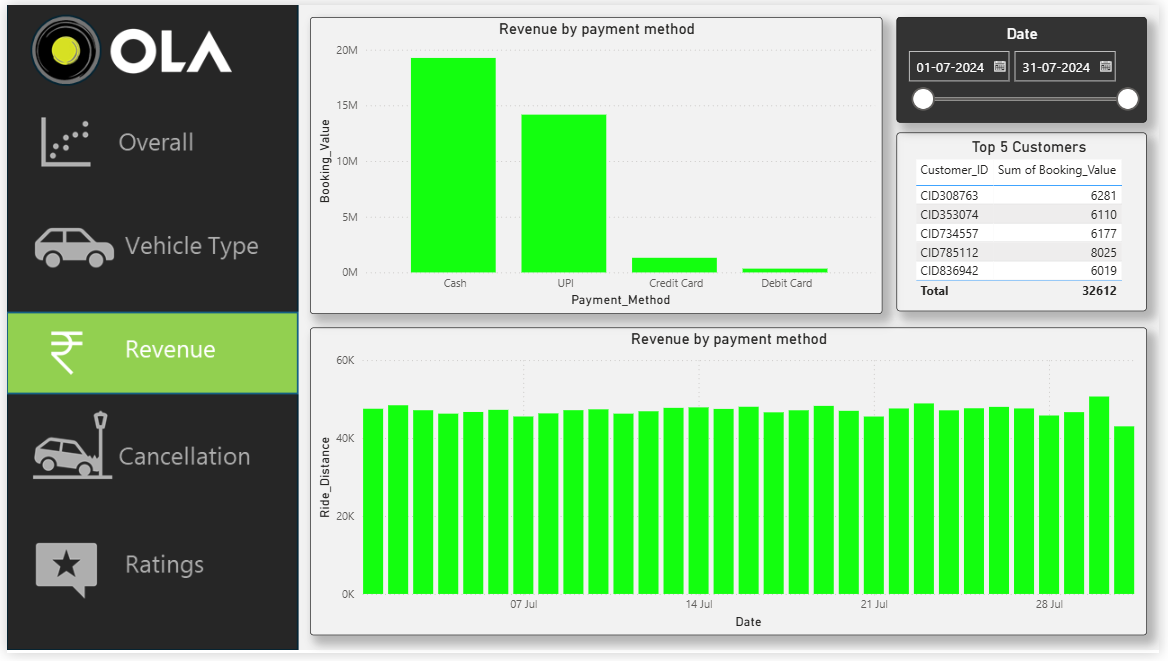

This screenshot's page, from the dashboard's own definition file:
{"tool":"powerbi","page":{"name":"Revenue","canvas":[1280,720],"ordinal":2},"visuals":[{"type":"actionButton","box":[0,107.8,322,90.7],"z":0},{"type":"actionButton","box":[0,228.2,322,90.7],"z":1000},{"type":"actionButton","box":[0,342.3,322,90.7],"z":2000},{"type":"actionButton","box":[0,445.5,322,90.7],"z":3000},{"type":"actionButton","box":[0,576.7,322,90.7],"z":4000},{"type":"columnChart","title":"Revenue by payment method","fields":{"Y":["Sum(July.Booking_Value)"],"Category":["July.Payment_Method"]},"box":[336,12.5,636.1,329.8],"z":5000},{"type":"columnChart","title":"Revenue by payment method","fields":{"Y":["Sum(July.Ride_Distance)"],"Category":["July.Date"]},"box":[336.4,359.1,929.8,342],"z":6000},{"type":"slicer","title":"Date","fields":{"Values":["July.Date"]},"box":[987.8,12.5,278.2,117.2],"z":7000},{"type":"tableEx","title":"Top 5 Customers","fields":{"Values":["July.Customer_ID","Sum(July.Booking_Value)"]},"box":[987.8,142.2,278.2,198.5],"z":8000}]}

Visuals, with their boxes in screenshot pixels (x1, y1, x2, y2), scaled from the page's 1280x720 canvas onto the 1168x661 screenshot:
actionButton: pyautogui.locateOnScreen(0, 99, 294, 182)
actionButton: pyautogui.locateOnScreen(0, 210, 294, 293)
actionButton: pyautogui.locateOnScreen(0, 314, 294, 398)
actionButton: pyautogui.locateOnScreen(0, 409, 294, 492)
actionButton: pyautogui.locateOnScreen(0, 529, 294, 613)
"Revenue by payment method" columnChart: pyautogui.locateOnScreen(307, 11, 887, 314)
"Revenue by payment method" columnChart: pyautogui.locateOnScreen(307, 330, 1155, 644)
"Date" slicer: pyautogui.locateOnScreen(901, 11, 1155, 119)
"Top 5 Customers" tableEx: pyautogui.locateOnScreen(901, 131, 1155, 313)
